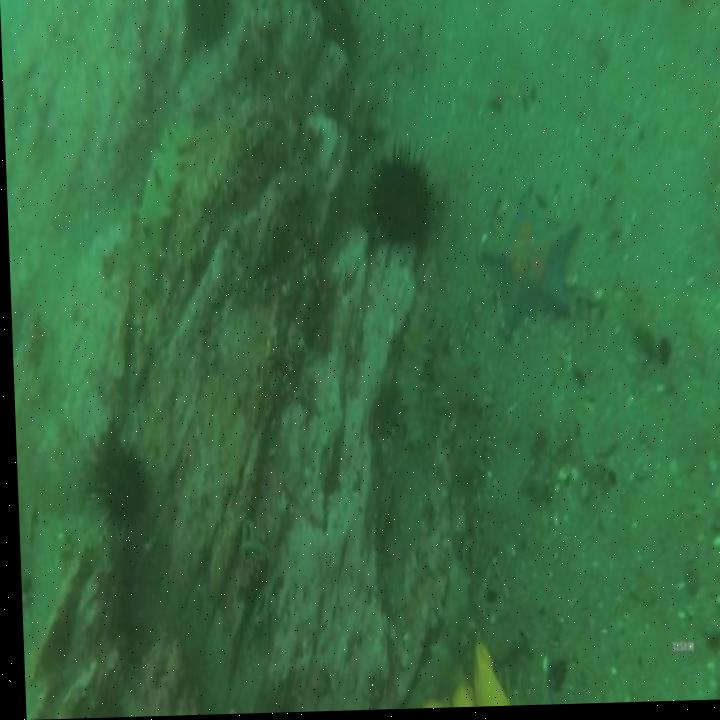echinus: (372, 152, 431, 253), (87, 441, 145, 512), (191, 2, 229, 47)
holothurian: (139, 117, 190, 285), (412, 557, 470, 697), (434, 350, 488, 484), (393, 303, 424, 462)
starfish: (477, 195, 578, 339)
